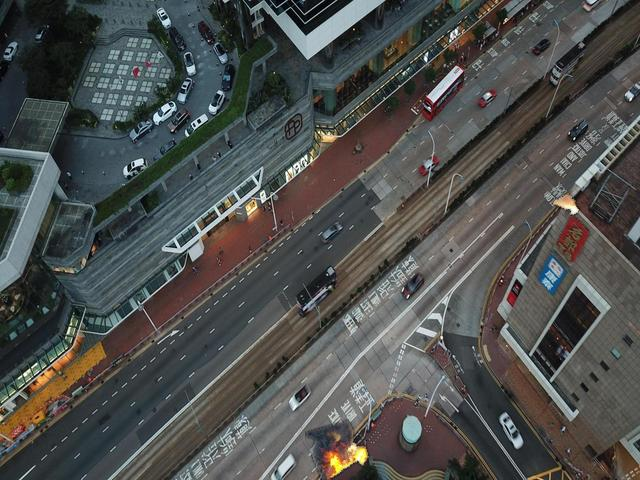fire: (306, 420, 369, 480), (552, 192, 579, 216)
